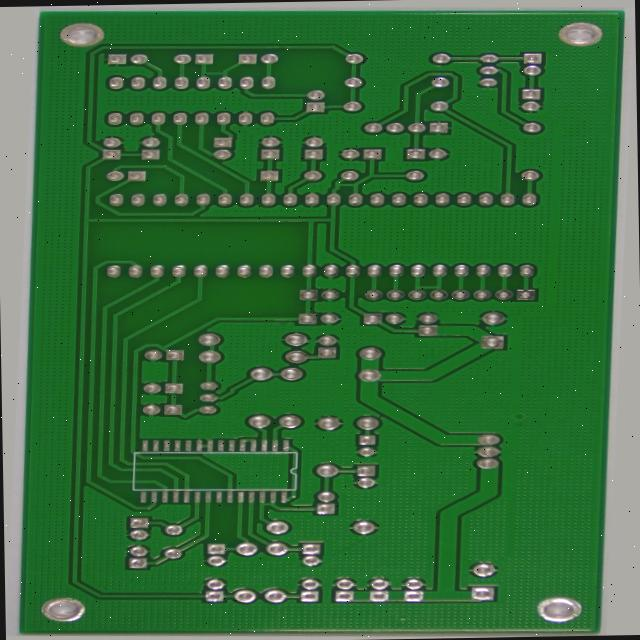short: (411, 273, 454, 295), (171, 62, 210, 79), (325, 175, 358, 188), (267, 501, 287, 511)
